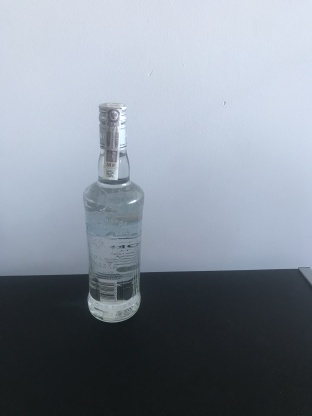nakretka: (96, 97, 129, 151)
